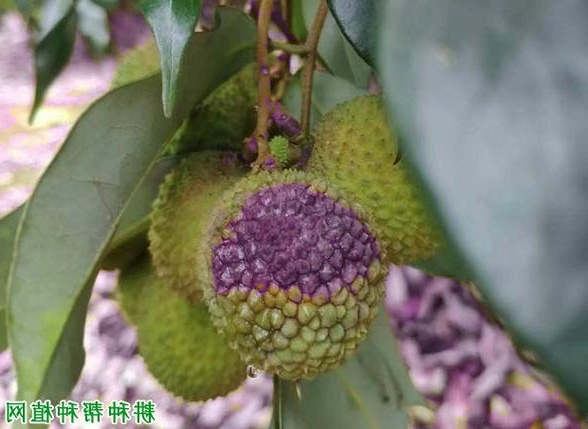Frost_Blight: (210, 193, 373, 310)
